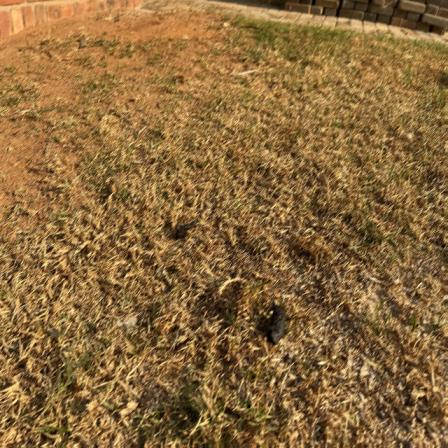dog-poop: (260, 300, 296, 347), (168, 217, 208, 247)
